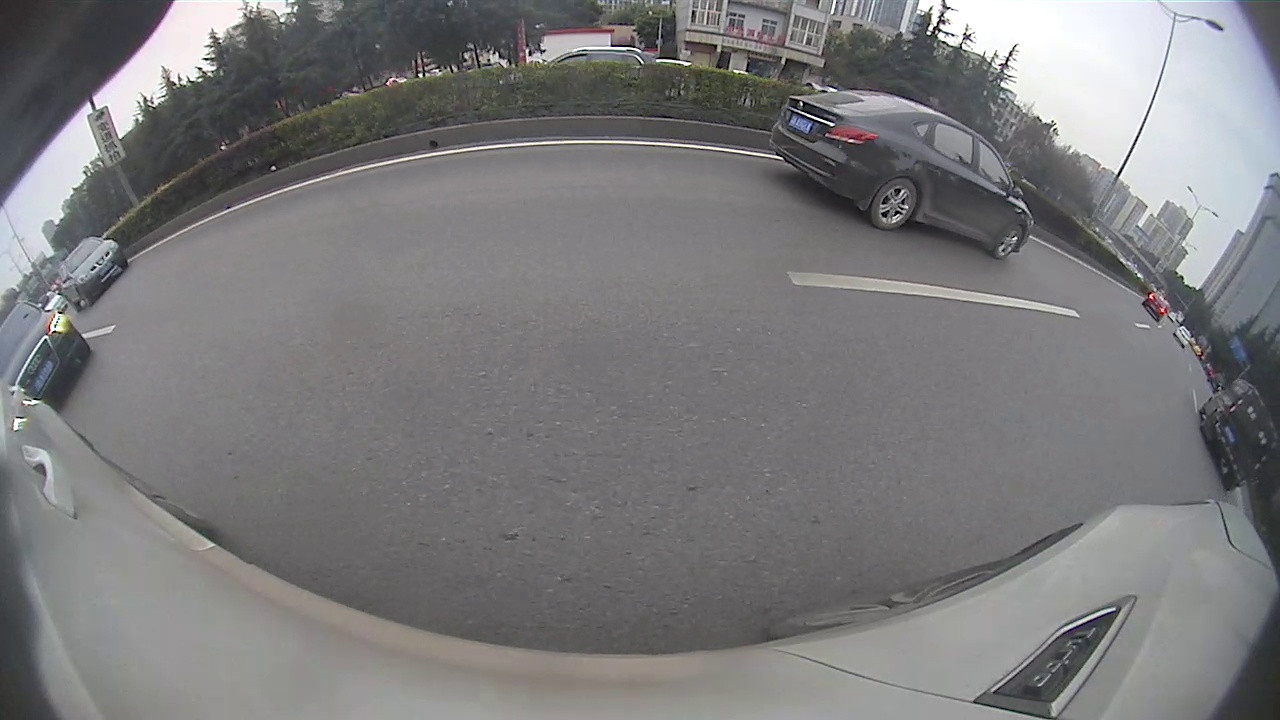car: (771, 90, 1032, 259), (1, 303, 93, 406), (1197, 380, 1272, 489), (58, 237, 129, 309), (1142, 290, 1170, 321)
front: (993, 223, 1025, 260)
rear: (868, 177, 920, 233)
